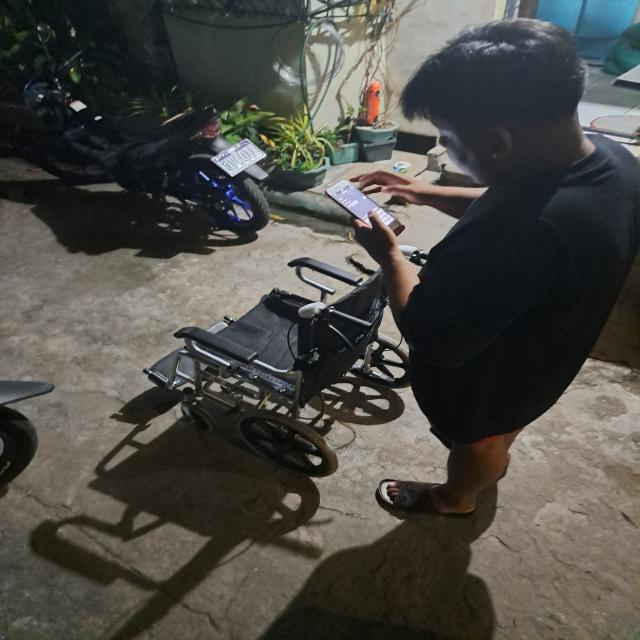wheelchairs: (130, 243, 424, 492)
